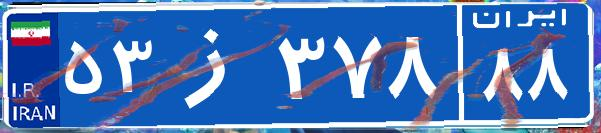3: (273, 28, 330, 110), (110, 28, 158, 105)
5: (57, 26, 110, 107)
7: (330, 28, 385, 110)
8: (385, 28, 445, 110), (475, 38, 525, 113), (525, 38, 570, 115)
ز: (158, 15, 273, 115)
